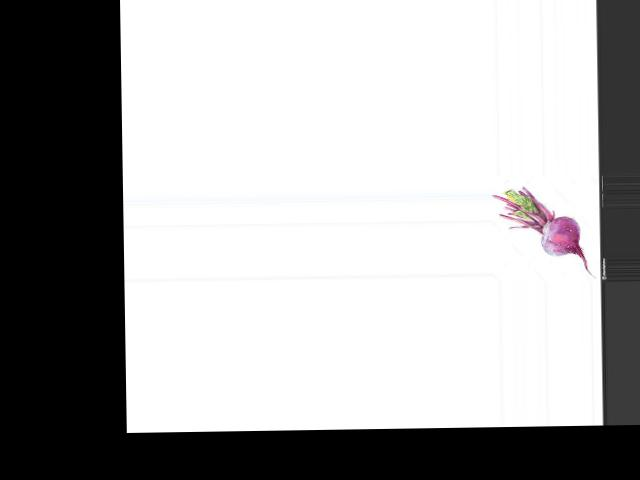beet: (491, 185, 595, 279)
